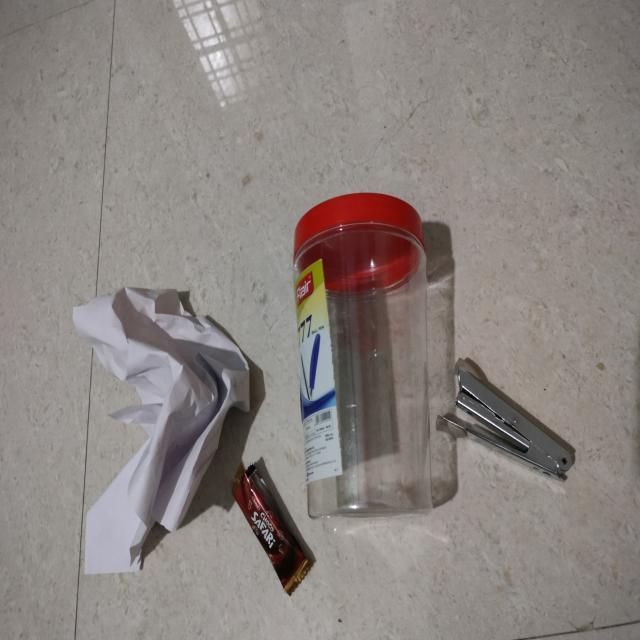metal: (451, 363, 582, 487)
paper: (72, 272, 223, 554)
plastic: (288, 222, 439, 512), (230, 474, 312, 600)
